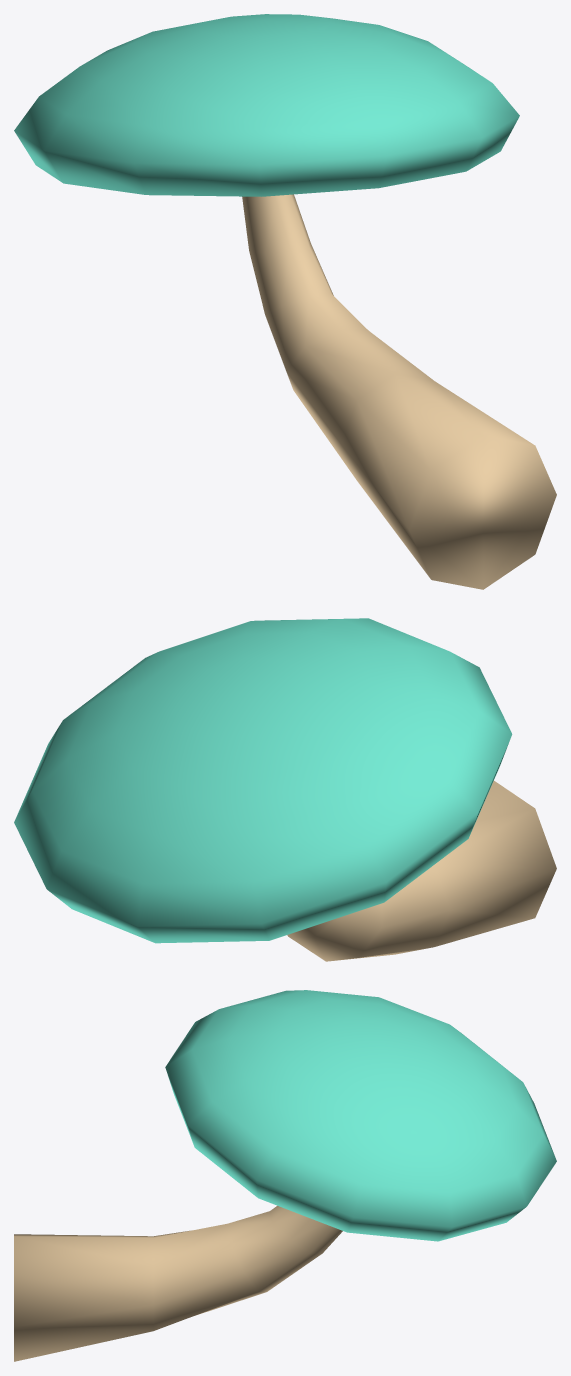
The model's file is ShroomWall_3.fbx.
3 renders of one model, top to bottom at view 1: azimuth 30°, elevation 25°; view 2: azimuth 150°, elevation 25°; view 3: azimuth 270°, elevation 25°, orthographic. The views are drawn at different scales.
Parts seen in each view (by area): view 1: ShroomWall_3; view 2: ShroomWall_3; view 3: ShroomWall_3.
Part boxes in pixels (x1,y1,x2,y2): ShroomWall_3: [14, 14, 556, 589]; ShroomWall_3: [14, 618, 556, 961]; ShroomWall_3: [14, 990, 556, 1361].
Size of the model in its own units: 405 by 367 by 547.
